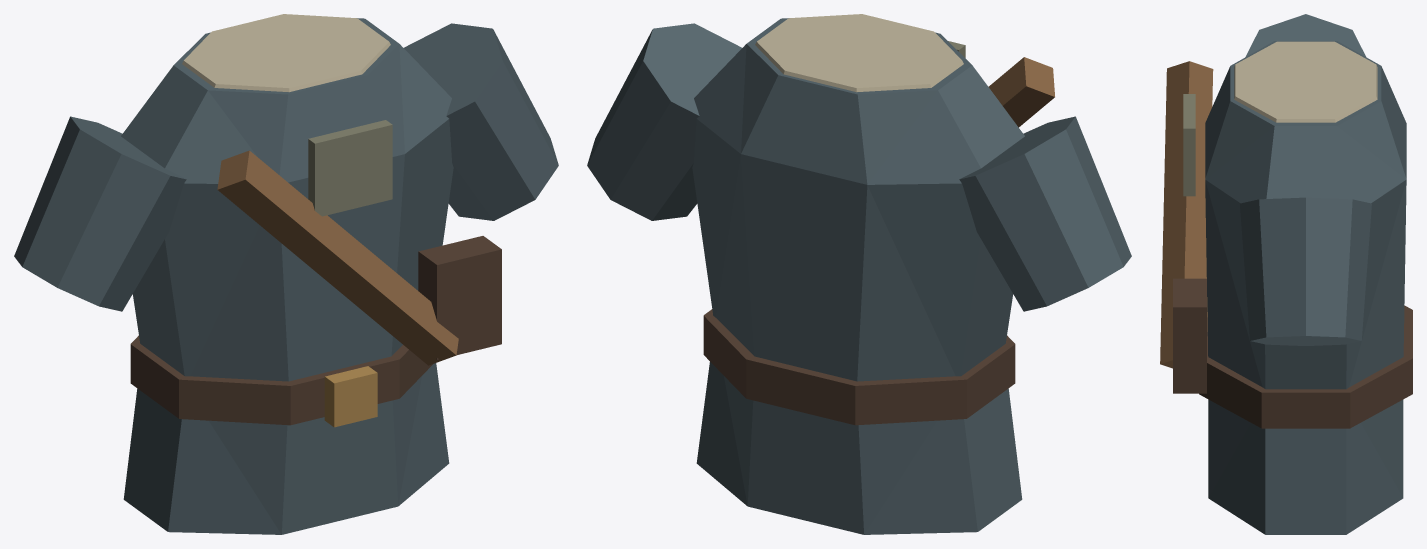
The model's file is NPC_Torso_02_Ranger.glb.
3 renders of one model, left to right at view 1: azimuth 30°, elevation 25°; view 2: azimuth 150°, elevation 25°; view 3: azimuth 270°, elevation 25°, orthographic. The views are drawn at different scales.
Visible parts, largest first — view 1: NPC_Torso_02_Ranger; view 2: NPC_Torso_02_Ranger; view 3: NPC_Torso_02_Ranger.
Boxes of the visible parts, x1=… form: NPC_Torso_02_Ranger: x1=14, y1=14, x2=558, y2=534; NPC_Torso_02_Ranger: x1=587, y1=14, x2=1131, y2=534; NPC_Torso_02_Ranger: x1=1160, y1=14, x2=1412, y2=534.
Bounding box in the file's own units: 0.8157 × 0.635 × 0.371.
